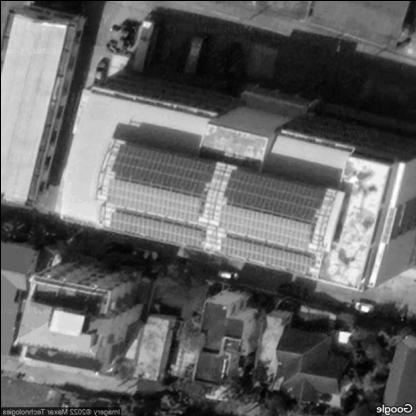solar-pv-panel: (220, 169, 326, 225), (111, 143, 214, 196), (217, 203, 312, 252), (105, 176, 199, 225), (109, 211, 205, 250), (219, 235, 312, 275)
